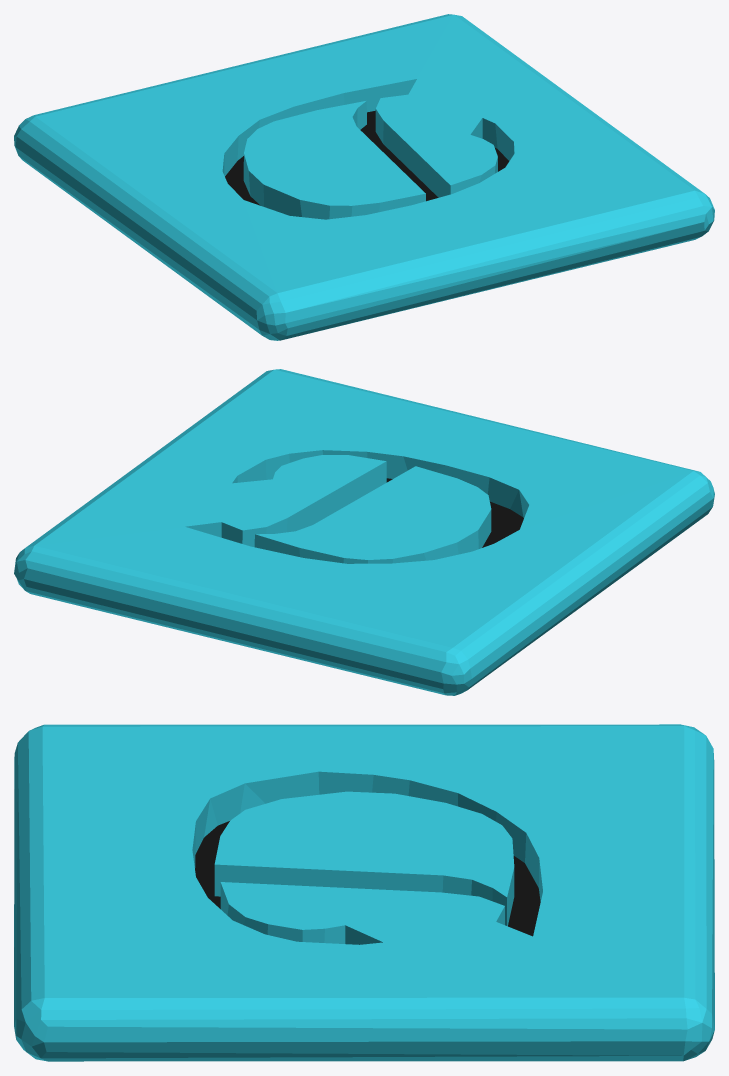
The model's file is tile-D.glb.
3 renders of one model, top to bottom at view 1: azimuth 30°, elevation 25°; view 2: azimuth 150°, elevation 25°; view 3: azimuth 270°, elevation 25°, orthographic. The views are drawn at different scales.
Visible parts, largest first — view 1: tile-puzzle-D v1; view 2: tile-puzzle-D v1; view 3: tile-puzzle-D v1.
Boxes of the visible parts, <box> form: tile-puzzle-D v1: <box>14,14,714,340</box>; tile-puzzle-D v1: <box>14,369,714,695</box>; tile-puzzle-D v1: <box>14,724,714,1061</box>.
Bounding box in the file's own units: 40.01 × 3.98 × 40.01.
